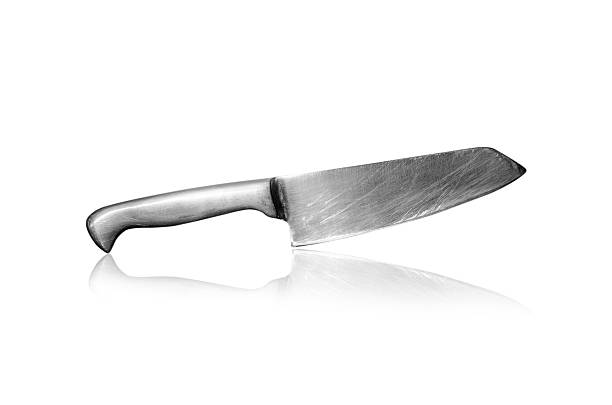k1: (233, 146, 527, 253)
